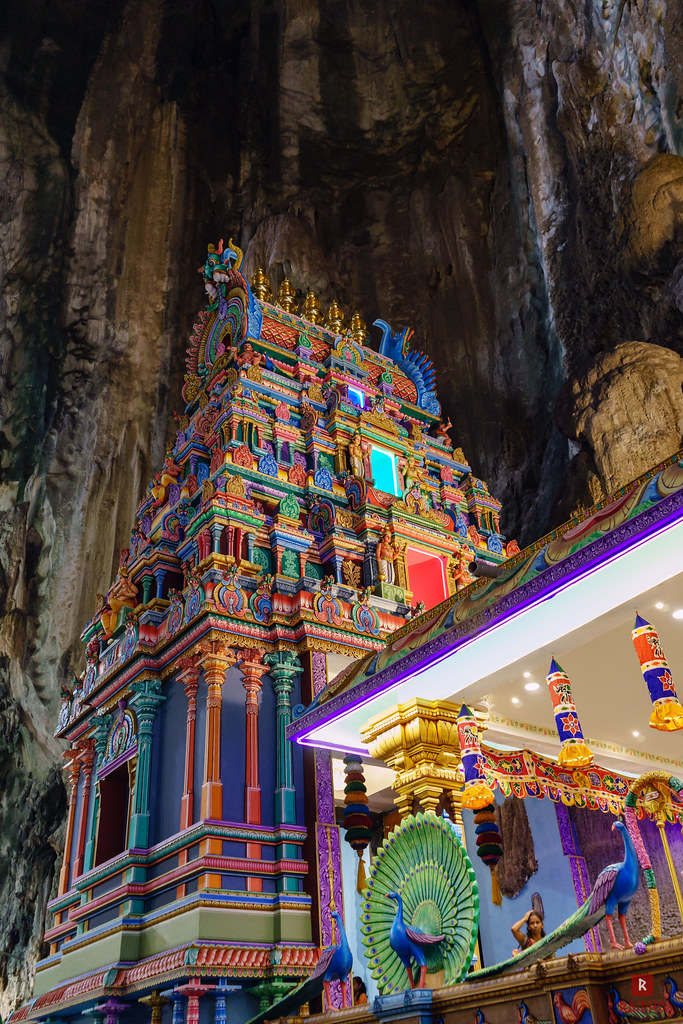Hindu Temple: (100, 241, 517, 999)
